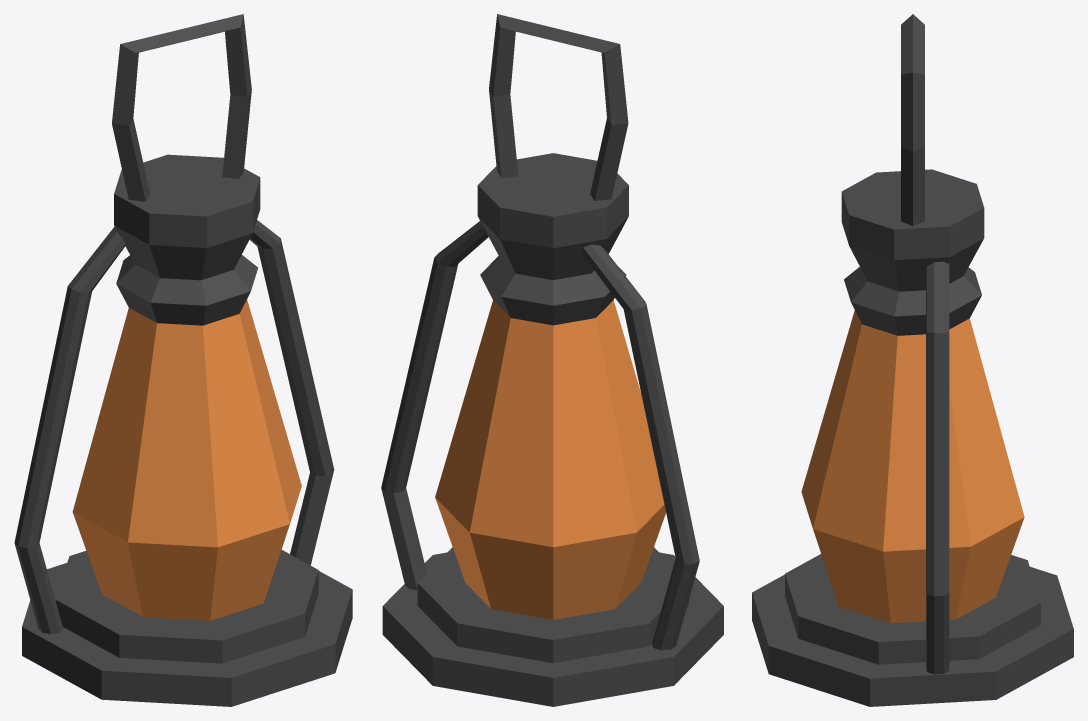
The model's file is Lump_6.fbx.
3 renders of one model, left to right at view 1: azimuth 30°, elevation 25°; view 2: azimuth 150°, elevation 25°; view 3: azimuth 270°, elevation 25°, orthographic. The views are drawn at different scales.
Visible parts, largest first — view 1: Lump_6; view 2: Lump_6; view 3: Lump_6.
Boxes of the visible parts, bbox=[...] form: Lump_6: bbox=[14, 14, 352, 706]; Lump_6: bbox=[381, 14, 723, 706]; Lump_6: bbox=[752, 14, 1073, 706].
Size of the model in its own units: 42.4 by 38.39 by 78.09.
